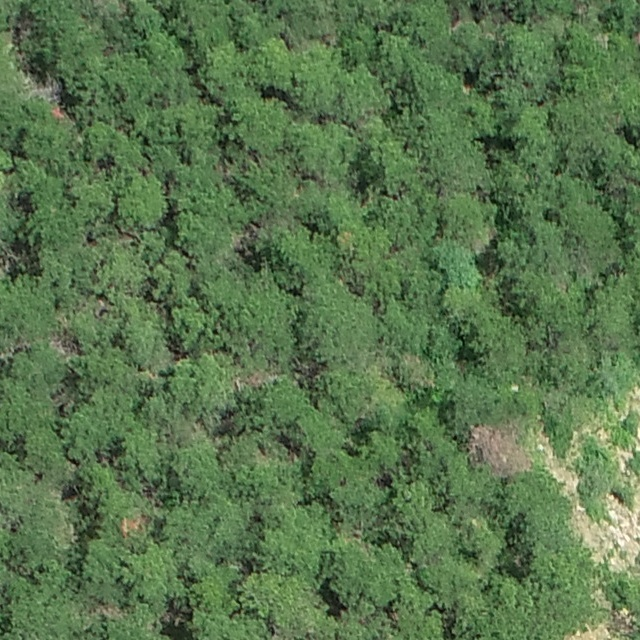unhealthy: (469, 422, 530, 478)
